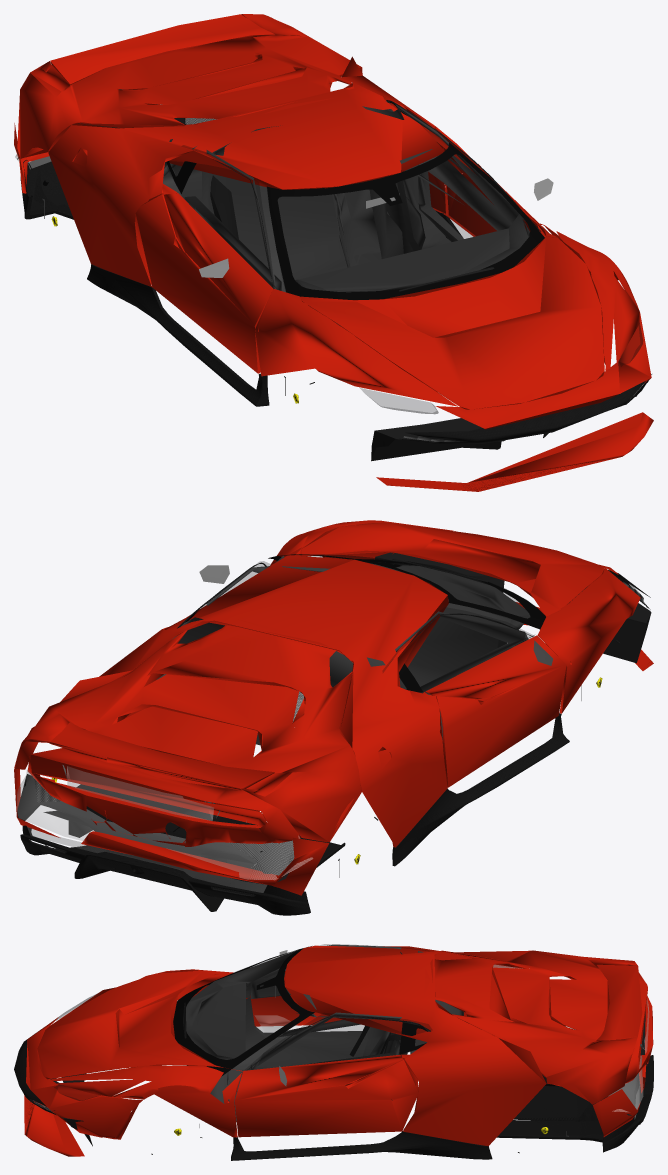
The picture shows the model from 3 angles, top to bottom: view 1: azimuth 30°, elevation 25°; view 2: azimuth 150°, elevation 25°; view 3: azimuth 270°, elevation 25°; orthographic projection. The views are drawn at different scales.
Visible parts, largest first — view 1: Carbody_Hood_TRUNK, Carbody_Central, Windshield, Cabin, Windshield_Mask, Deflectors_red, Front_Bumper_Upper_Lip, Front_Bumper_Base, _GOMA_0, Front_Lights_Glass_Clear, Mirrors; view 2: Carbody_Hood_TRUNK, Carbody_Central, Rear_Bumper_Red, Deflectors_red, Cabin, Windshield, Rear_Bumper_Black_Dummy, Front_Bumper_Base, Windshield_Mask, Trunk_Base_Black, Mirrors; view 3: Carbody_Hood_TRUNK, Carbody_Central, Windshield, Cabin, Deflectors_red, Windshield_Mask, Front_Bumper_Upper_Lip, Rear_Bumper_Red, Rear_Bumper_Black_Dummy, Front_Lights_Glass_Clear.
Boxes of the visible parts, x1,y1,x2,y2 form: Carbody_Hood_TRUNK: [14, 14, 653, 491]; Carbody_Central: [48, 56, 548, 373]; Windshield: [165, 97, 544, 299]; Cabin: [163, 101, 529, 324]; Windshield_Mask: [166, 100, 544, 299]; Deflectors_red: [20, 118, 462, 406]; Front_Bumper_Upper_Lip: [402, 374, 651, 443]; Front_Bumper_Base: [371, 381, 648, 461]; _GOMA_0: [210, 175, 420, 251]; Front_Lights_Glass_Clear: [360, 323, 642, 413]; Mirrors: [199, 178, 553, 277]; Carbody_Hood_TRUNK: [14, 520, 653, 895]; Carbody_Central: [60, 555, 566, 847]; Rear_Bumper_Red: [15, 766, 312, 892]; Deflectors_red: [20, 713, 569, 915]; Cabin: [156, 556, 534, 745]; Windshield: [186, 554, 545, 691]; Rear_Bumper_Black_Dummy: [17, 562, 533, 881]; Front_Bumper_Base: [375, 552, 651, 663]; Windshield_Mask: [178, 554, 545, 692]; Trunk_Base_Black: [44, 784, 254, 863]; Mirrors: [199, 565, 552, 665]; Carbody_Hood_TRUNK: [24, 950, 653, 1156]; Carbody_Central: [234, 945, 546, 1146]; Windshield: [173, 944, 431, 1075]; Cabin: [186, 944, 463, 1122]; Deflectors_red: [231, 1055, 653, 1160]; Windshield_Mask: [173, 946, 427, 1076]; Front_Bumper_Upper_Lip: [14, 1033, 60, 1116]; Rear_Bumper_Red: [609, 999, 649, 1118]; Rear_Bumper_Black_Dummy: [241, 945, 638, 1115]; Front_Lights_Glass_Clear: [54, 994, 99, 1100].
Bounding box in the file's own units: 1.98 × 0.9354 × 4.09.
12 materials, 3 textured.
